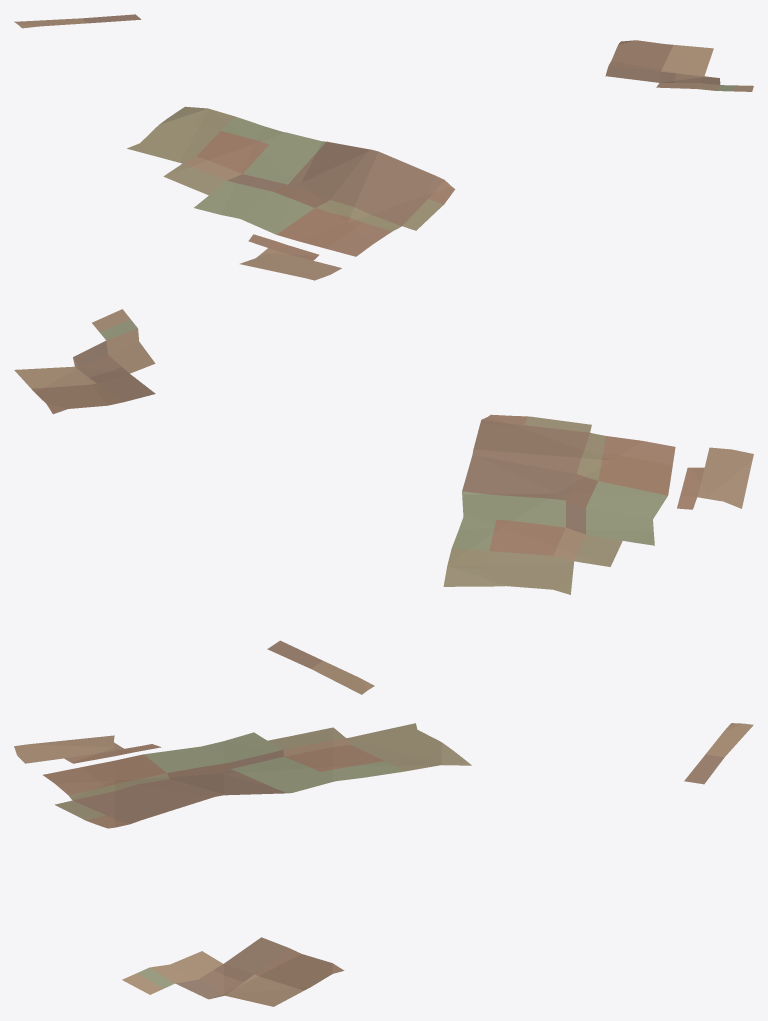
File: farm_-36_-27_soil.glb
The picture shows the model from 3 angles, top to bottom: view 1: azimuth 30°, elevation 25°; view 2: azimuth 150°, elevation 25°; view 3: azimuth 270°, elevation 25°; orthographic projection. The views are drawn at different scales.
Visible parts, largest first — view 1: geometry_0; view 2: geometry_0; view 3: geometry_0.
Boxes of the visible parts, x1,y1,x2,y2 form: geometry_0: (14, 14, 753, 280); geometry_0: (14, 309, 753, 694); geometry_0: (14, 723, 753, 1006).
Bounding box in the file's own units: 542 × 41.9 × 544.
